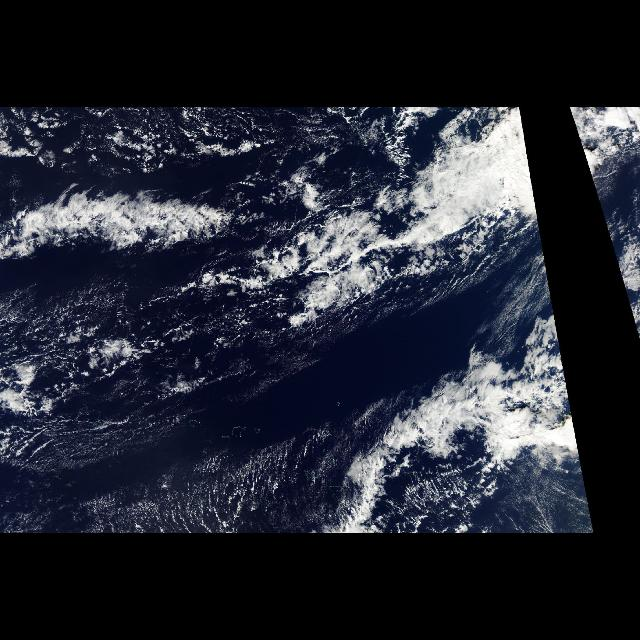Fish: (1, 126, 522, 492)
Sugar: (7, 389, 339, 531)
